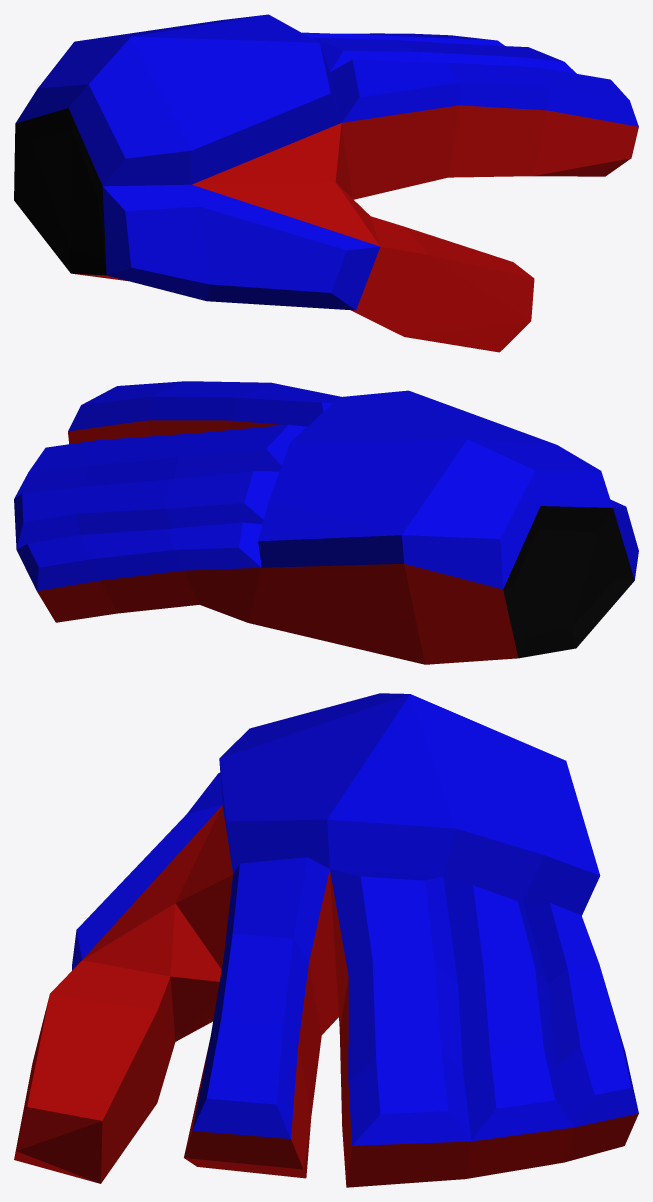
Rendered from Chr_HandLeft_Male_Static_12.fbx.
3 renders of one model, top to bottom at view 1: azimuth 30°, elevation 25°; view 2: azimuth 150°, elevation 25°; view 3: azimuth 270°, elevation 25°, orthographic. The views are drawn at different scales.
Visible parts, largest first — view 1: Chr_HandLeft_Male_12; view 2: Chr_HandLeft_Male_12; view 3: Chr_HandLeft_Male_12.
Boxes of the visible parts, x1,y1,x2,y2 form: Chr_HandLeft_Male_12: [14, 14, 638, 352]; Chr_HandLeft_Male_12: [14, 381, 638, 664]; Chr_HandLeft_Male_12: [14, 693, 638, 1187].
Bounding box in the file's own units: 23.7 × 11.65 × 18.8.
